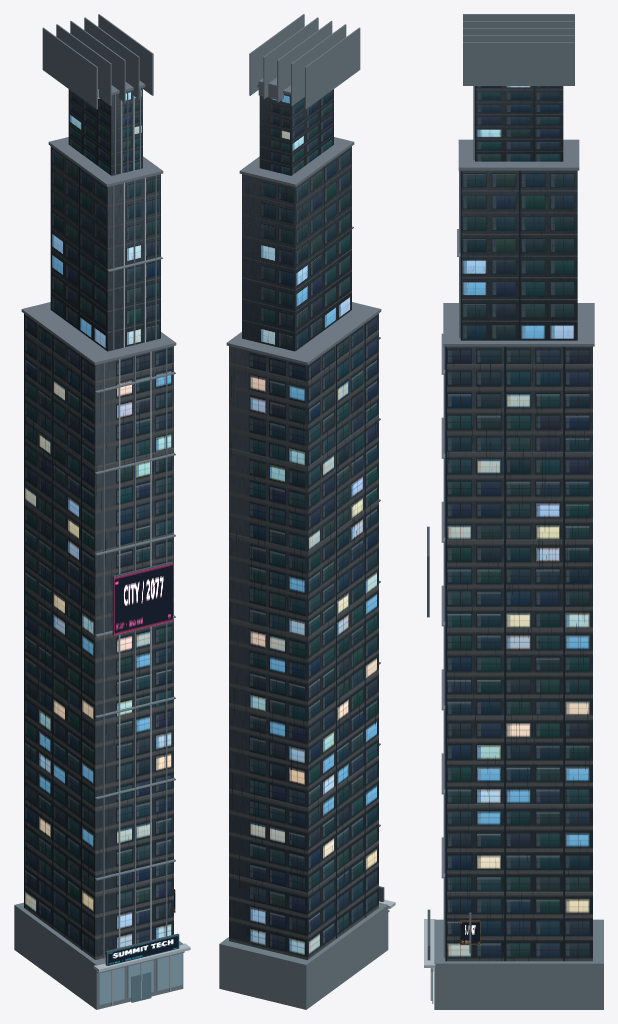
The model's file is building_10.glb.
3 views of the same model, side by side, from view 1: azimuth 30°, elevation 25°; view 2: azimuth 150°, elevation 25°; view 3: azimuth 270°, elevation 25° (orthographic). The views are drawn at different scales.
Visible parts, largest first — view 1: facade_sideb_3, facade_0, frame, facade_sideb_7, facade_4, alum, roof, ad_14, facade_sideb_11, glass, facade_8, sign_12 (+3 smaller); view 2: facade_back_1, facade_sideb_3, frame, facade_sideb_7, facade_back_5, roof, facade_sideb_11, facade_back_9; view 3: facade_side_2, frame, facade_side_6, facade_side_10, roof, alum, side_sign_13, dark.
Part boxes in pixels (box(x1,y1,x2,y2)): facade_sideb_3: box(24, 313, 95, 959); facade_0: box(95, 346, 173, 959); frame: box(14, 14, 184, 1009); facade_sideb_7: box(50, 146, 107, 351); facade_4: box(107, 174, 160, 351); alum: box(93, 89, 190, 1005); roof: box(21, 81, 176, 364); ad_14: box(114, 563, 173, 635); facade_sideb_11: box(68, 89, 111, 175); glass: box(99, 953, 182, 1004); facade_8: box(111, 88, 142, 175); sign_12: box(107, 935, 179, 965); facade_back_1: box(229, 346, 307, 959); facade_sideb_3: box(307, 313, 378, 959); frame: box(219, 14, 389, 1009); facade_sideb_7: box(295, 146, 351, 350); facade_back_5: box(242, 174, 294, 351); roof: box(226, 77, 381, 365); facade_sideb_11: box(291, 89, 333, 175); facade_back_9: box(260, 93, 291, 175); facade_side_2: box(445, 346, 592, 961); frame: box(431, 14, 603, 1009); facade_side_6: box(460, 170, 577, 340); facade_side_10: box(475, 86, 563, 161); roof: box(443, 139, 594, 346); alum: box(424, 919, 435, 1000); side_sign_13: box(460, 920, 480, 944); dark: box(427, 526, 430, 960).
Size of the model in its own units: 16.75 by 157 by 26.7.
Materials: 24 (15 with a texture image).
